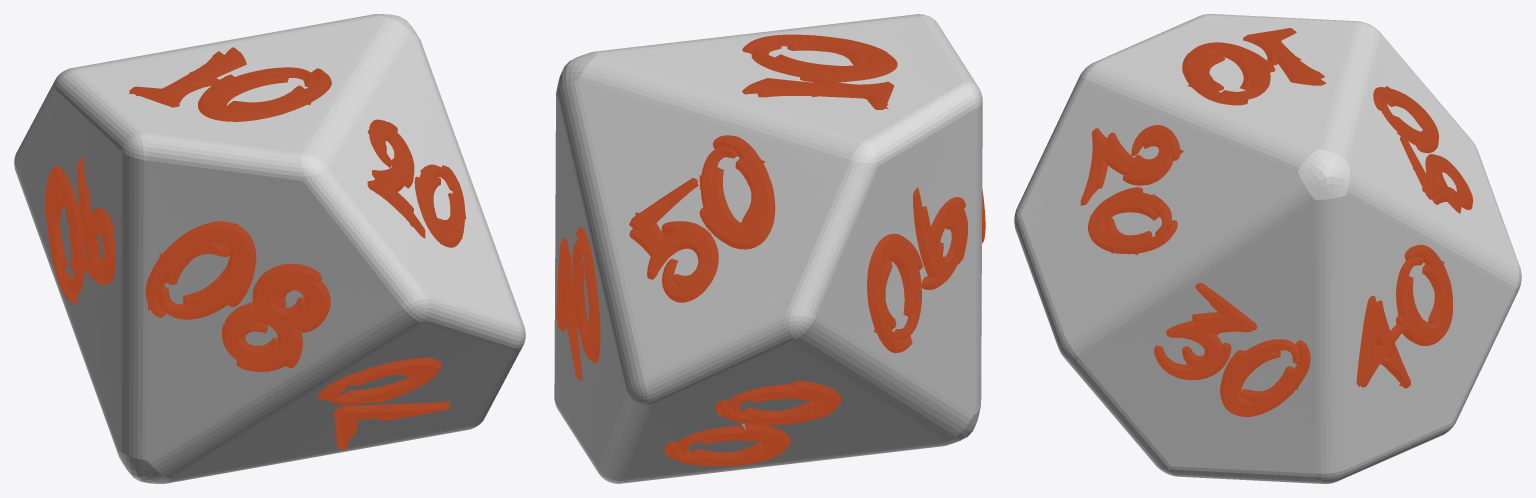
3 views of the same model, side by side, from view 1: azimuth 30°, elevation 25°; view 2: azimuth 150°, elevation 25°; view 3: azimuth 270°, elevation 25° (orthographic). The views are drawn at different scales.
Parts seen in each view (by area): view 1: d10; view 2: d10; view 3: d10.
Part boxes in pixels (x1=…): d10: x1=14, y1=14, x2=525, y2=483; d10: x1=554, y1=14, x2=985, y2=483; d10: x1=1014, y1=14, x2=1521, y2=483.
Bounding box in the file's own units: 1.38 × 1.35 × 1.87.
